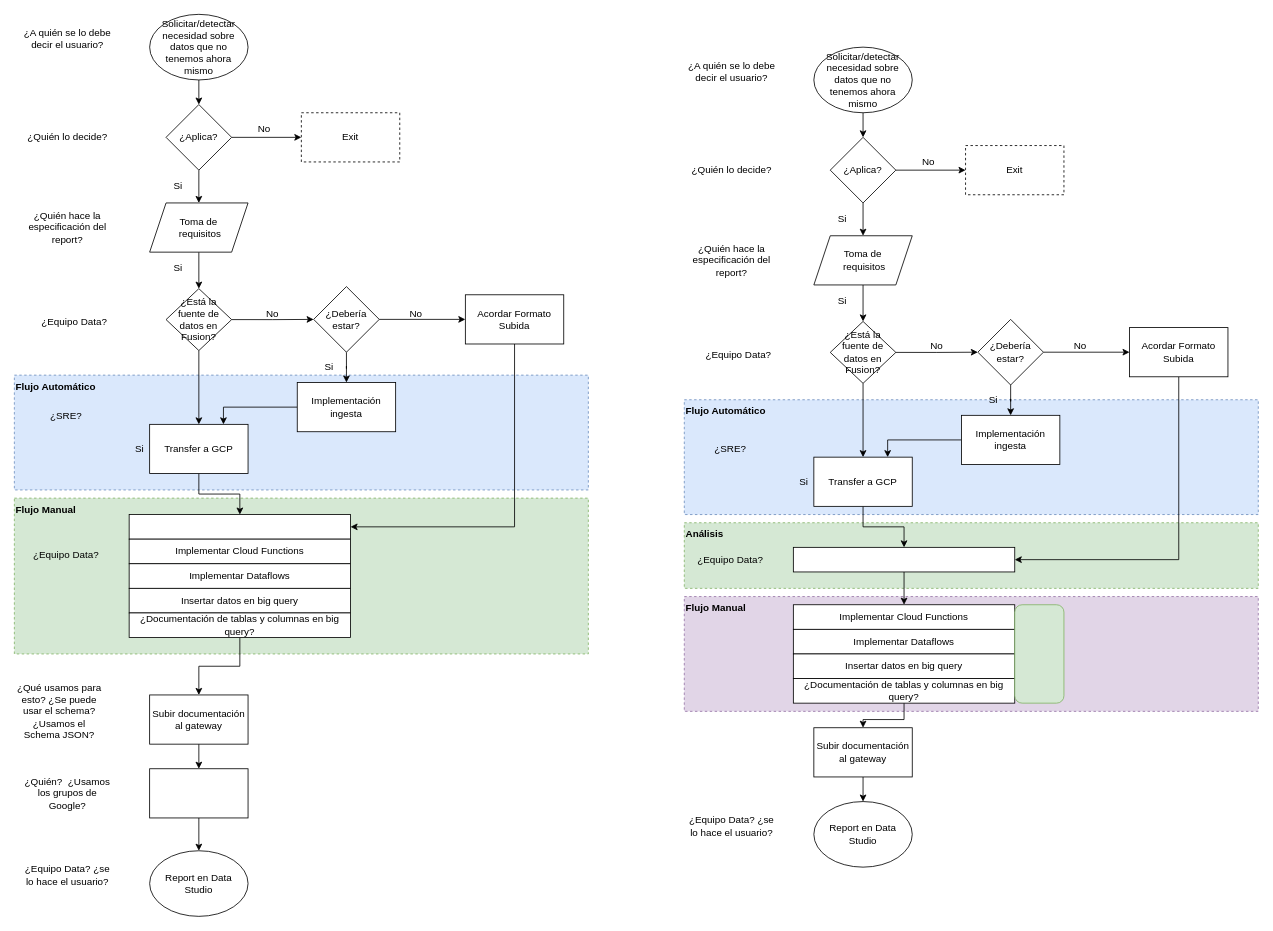
This 1273x931 diagram has some shape labels left out. Each missing label, with the centre of its shape:
"Implementar Triggers" goes at point (239, 526).
"Modelado de la fuente de datos a STIX" goes at point (904, 559).
"Permisionado y acceso a tabla(s)" goes at point (198, 793).
"SOPORTE equipo Data" goes at point (1039, 653).
